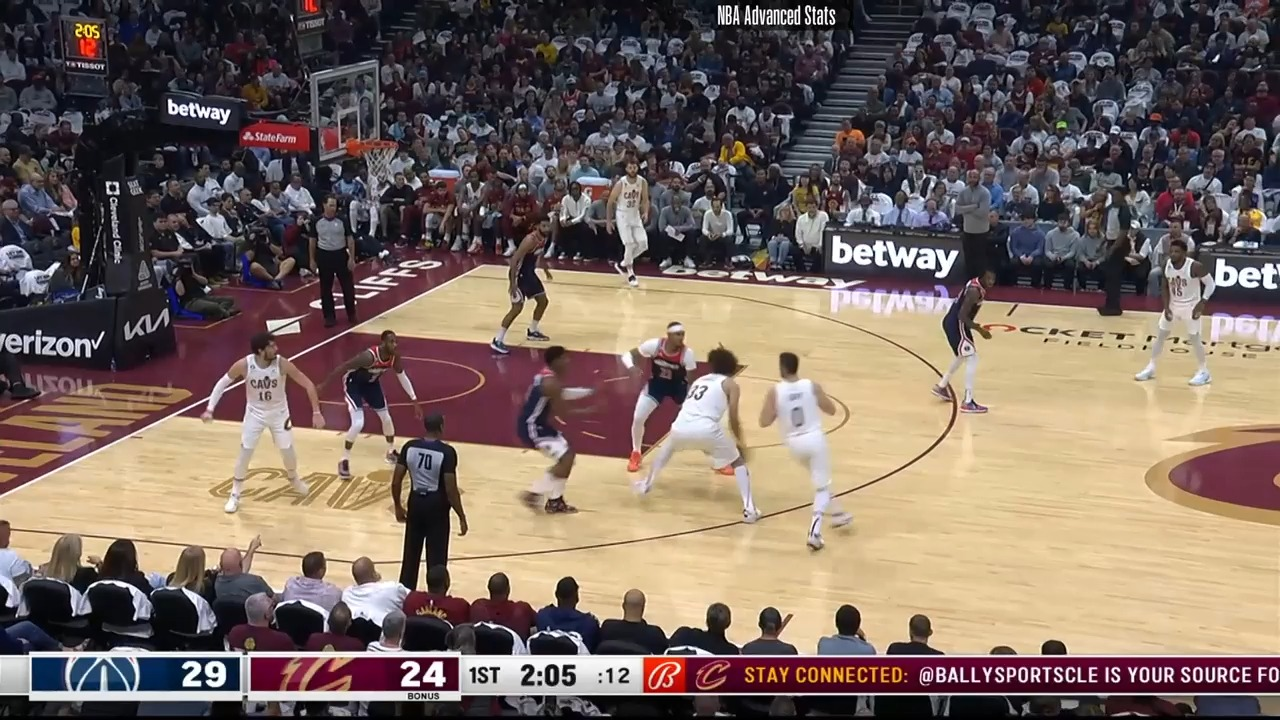net: (343, 133, 401, 184)
player: (208, 326, 331, 512), (635, 343, 760, 522), (752, 346, 853, 555), (515, 342, 601, 518), (335, 327, 425, 478), (626, 323, 706, 476), (1133, 241, 1211, 389), (937, 265, 1003, 416), (497, 214, 567, 350), (600, 161, 649, 292)
referee: (390, 416, 468, 595), (311, 203, 362, 325)
